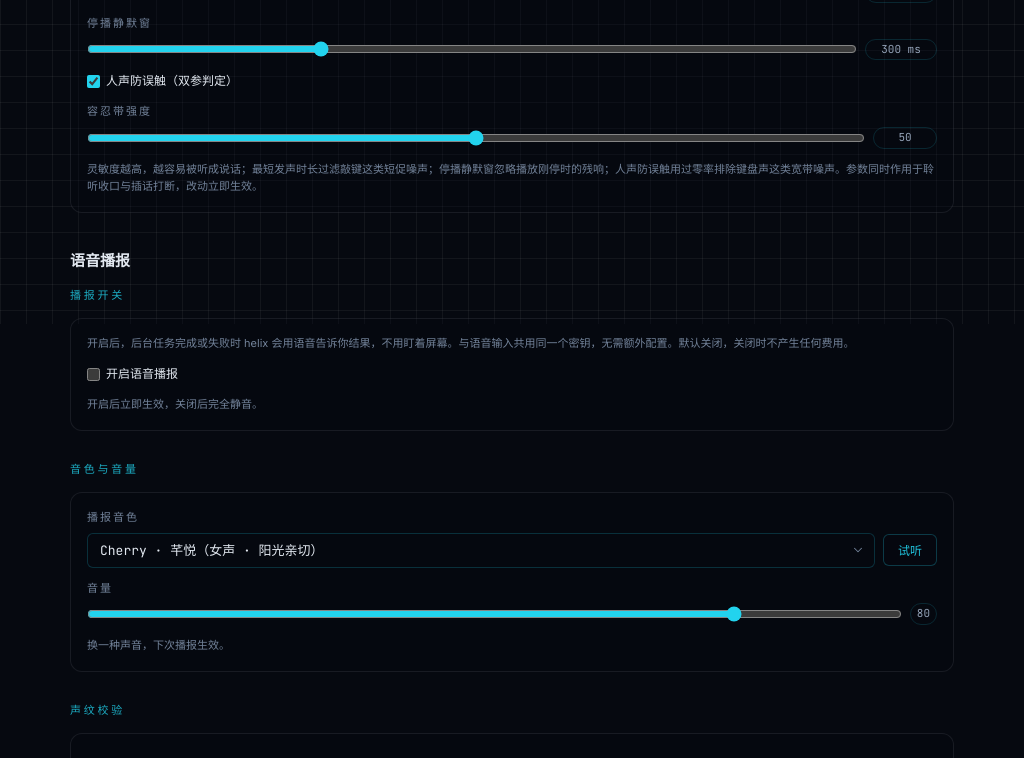
it: VoiceSettingsSection TTS 段（语音播报批 V2 + checkbox 重排） › 订阅 send false（断线窗口）→ toast 交代（TR-84 返回值必消费；偏好保留由重连重放自愈）
(page scrolled)
Click the checkbox labelled "开启语音播报" at (94, 374), box top-left (87, 368), bottom-right (100, 381)
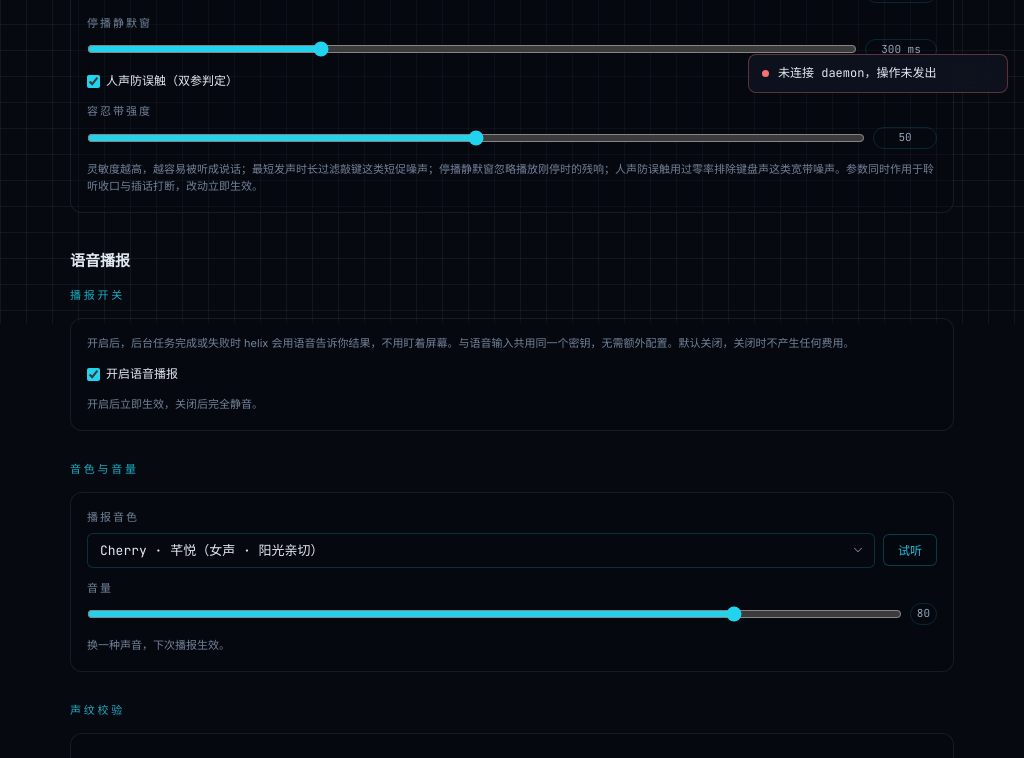
Now the text "未连接 daemon" is shown, box top-left (778, 65), bottom-right (936, 81)
